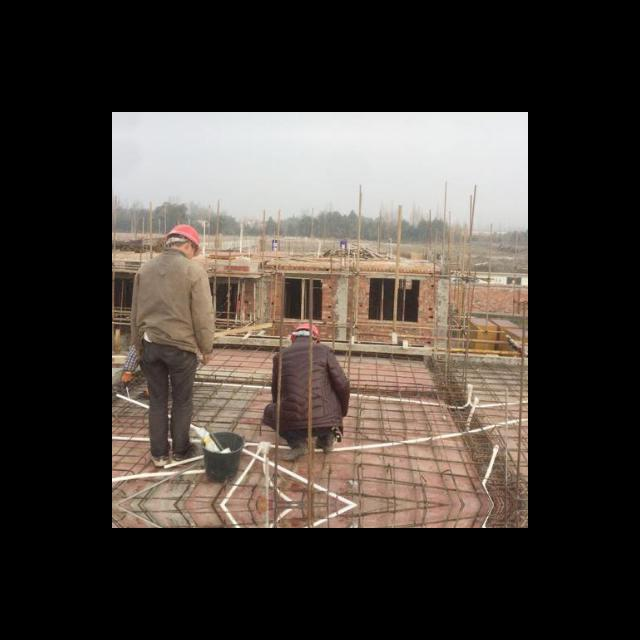Hardhat: (165, 224, 201, 249), (291, 323, 320, 341)
NO-Mask: (185, 243, 196, 259)
NO-Safety Vest: (274, 343, 338, 426), (139, 253, 195, 346)
Person: (130, 223, 213, 462), (262, 319, 351, 462), (122, 341, 204, 398)
